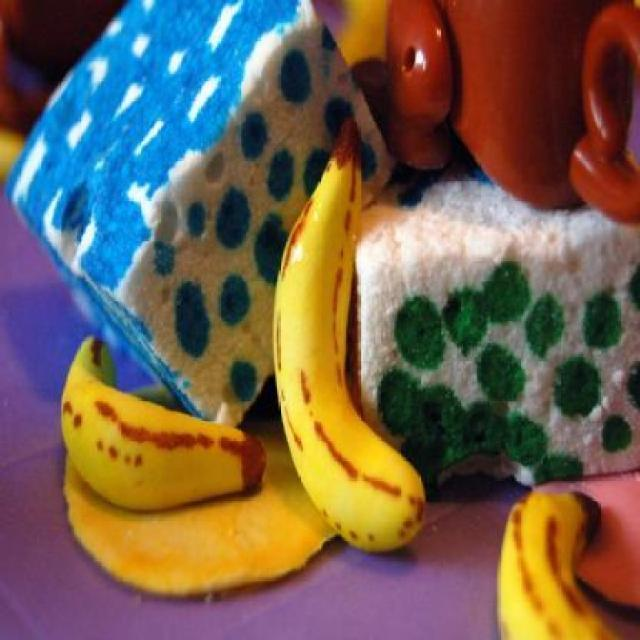Banana: (270, 116, 424, 556), (58, 338, 266, 510), (495, 492, 617, 640)
